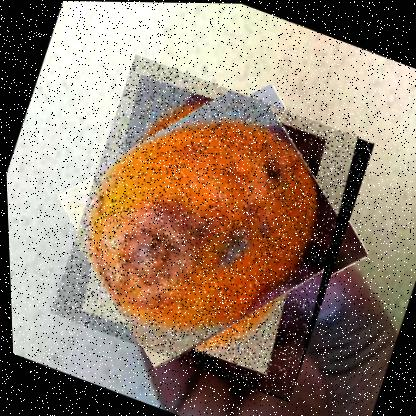orange_rotten: (40, 48, 383, 401)
